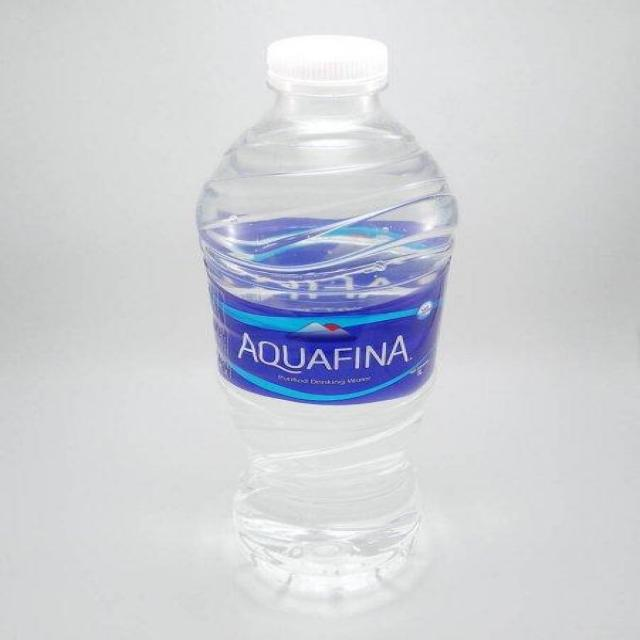plastic: (196, 36, 457, 613)
